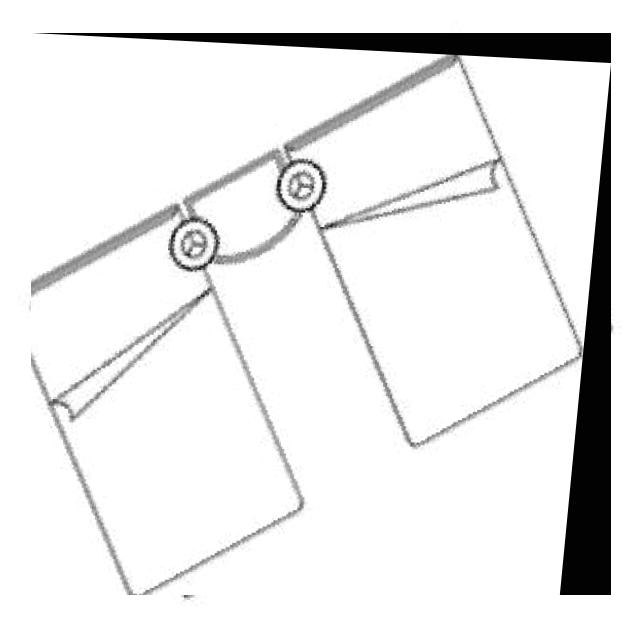bed: (31, 33, 611, 596)
